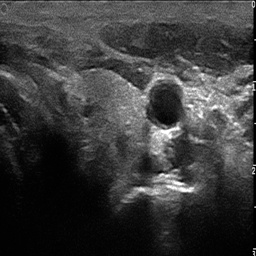mass: (113, 131, 132, 161)
